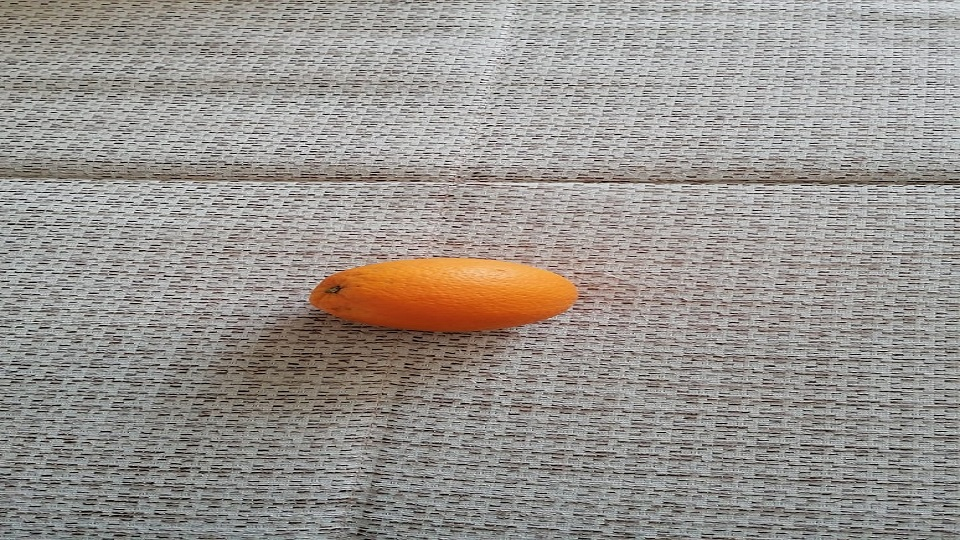portakal: (308, 256, 580, 334)
